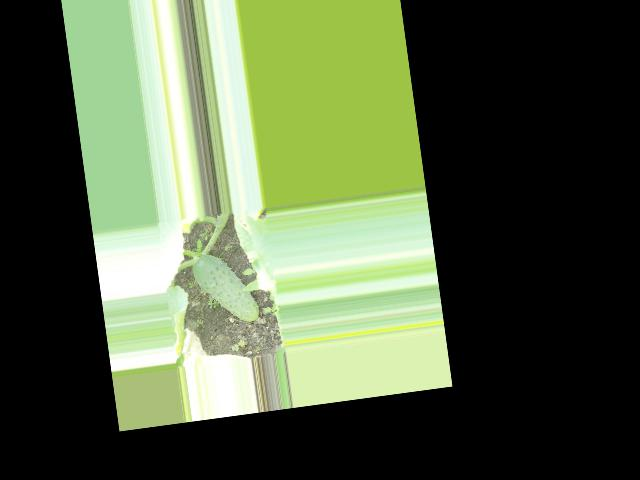cucumber: (190, 248, 260, 328)
